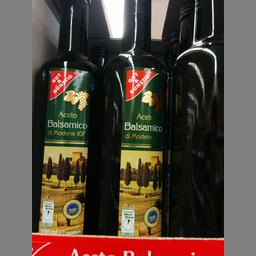vinegar: (102, 0, 172, 237), (32, 0, 101, 232)
